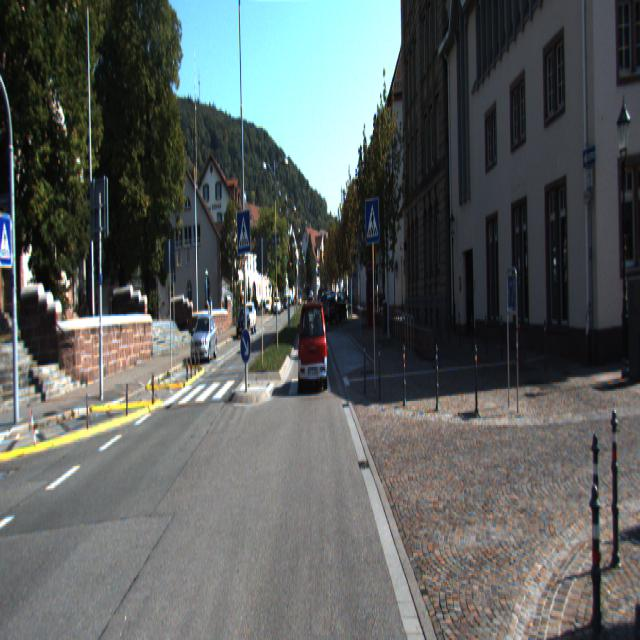Car: (299, 300, 328, 392), (190, 316, 218, 362), (328, 292, 350, 324), (236, 309, 252, 340)
